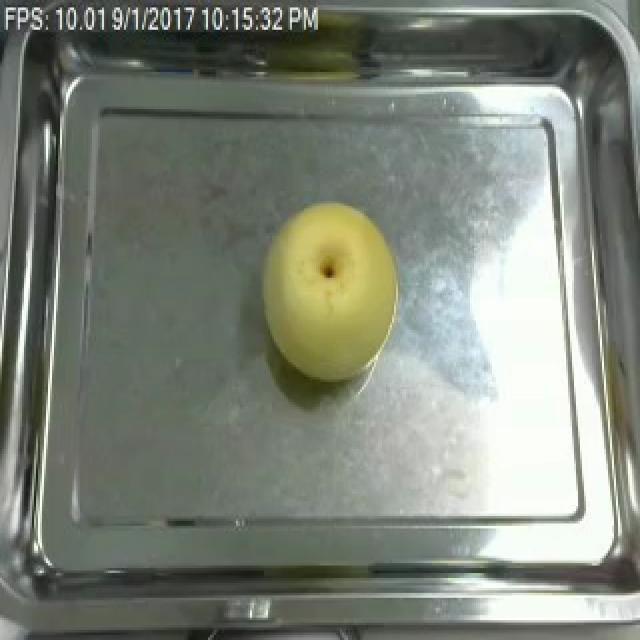Fruit: (254, 193, 406, 387)
